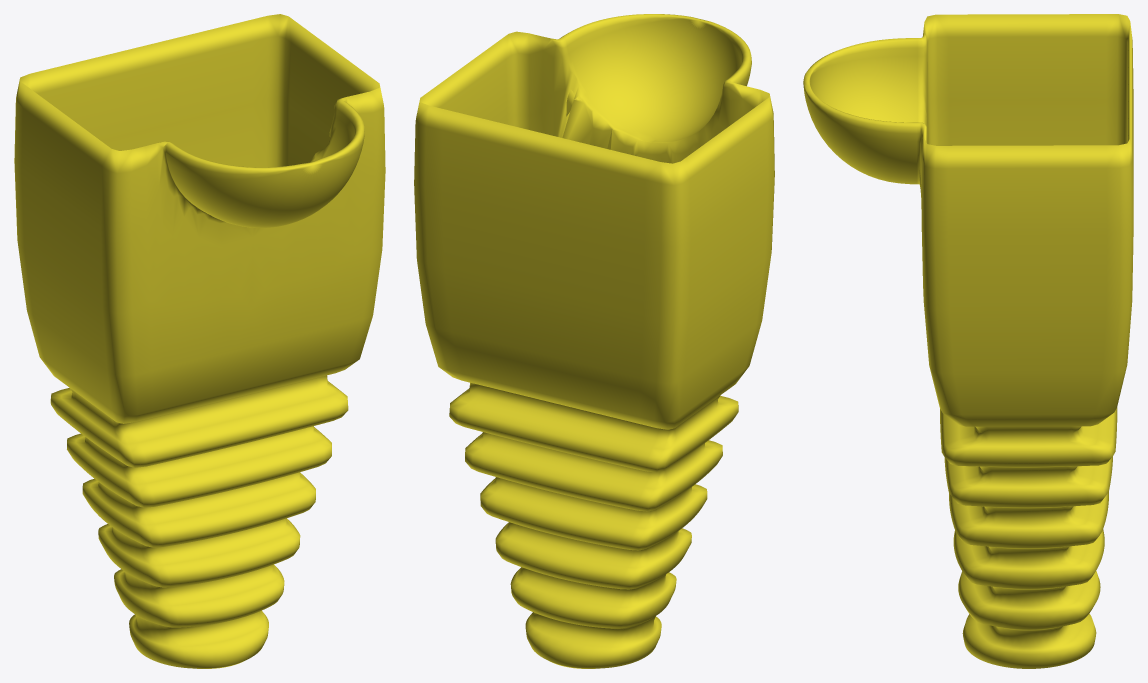
The model's file is StrainReliefBoots.glb.
3 renders of one model, left to right at view 1: azimuth 30°, elevation 25°; view 2: azimuth 150°, elevation 25°; view 3: azimuth 270°, elevation 25°, orthographic. The views are drawn at different scales.
Parts seen in each view (by area): view 1: StrainReliefBoots.001; view 2: StrainReliefBoots.001; view 3: StrainReliefBoots.001.
Part boxes in pixels (x1,y1,x2,y2): StrainReliefBoots.001: [14, 14, 385, 668]; StrainReliefBoots.001: [414, 14, 774, 668]; StrainReliefBoots.001: [803, 14, 1133, 668].
Bounding box in the file's own units: 0.0191 × 0.0369 × 0.0196.
